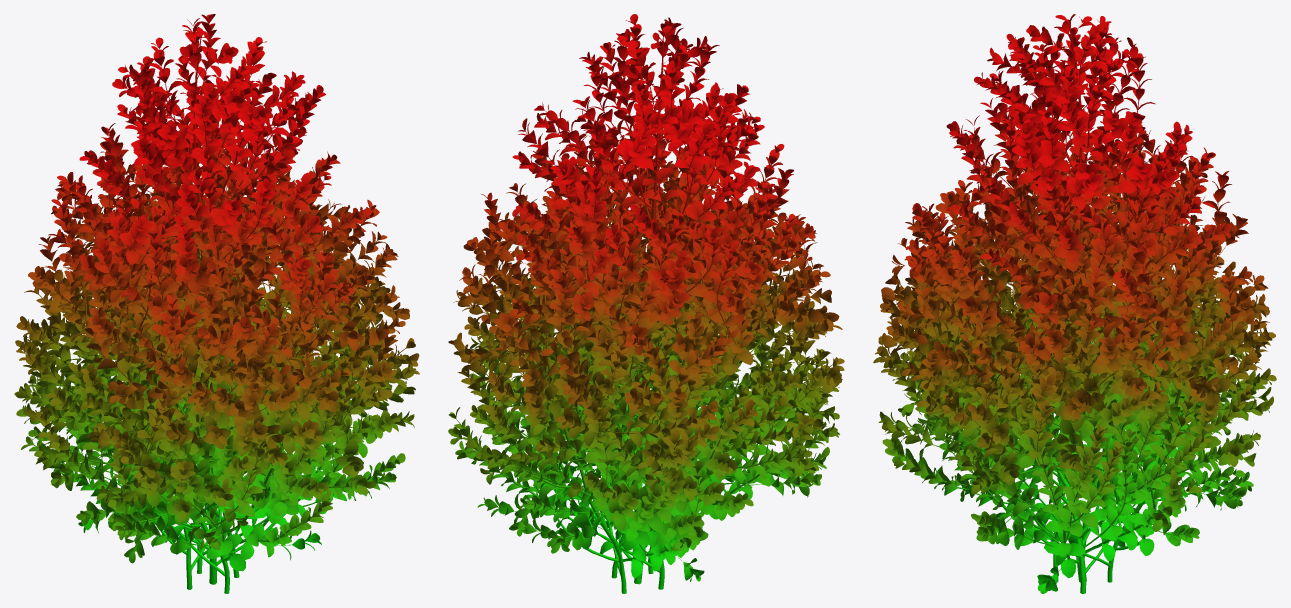
Rendered from Var5_LOD0.fbx.
3 renders of one model, left to right at view 1: azimuth 30°, elevation 25°; view 2: azimuth 150°, elevation 25°; view 3: azimuth 270°, elevation 25°, orthographic.
Parts seen in each view (by area): view 1: _3l8b_Var5_LOD0; view 2: _3l8b_Var5_LOD0; view 3: _3l8b_Var5_LOD0.
Part boxes in pixels (x1=…): _3l8b_Var5_LOD0: x1=14, y1=14, x2=419, y2=593; _3l8b_Var5_LOD0: x1=448, y1=14, x2=844, y2=593; _3l8b_Var5_LOD0: x1=873, y1=14, x2=1276, y2=593.
Size of the model in its own units: 80.71 by 123 by 80.06.
